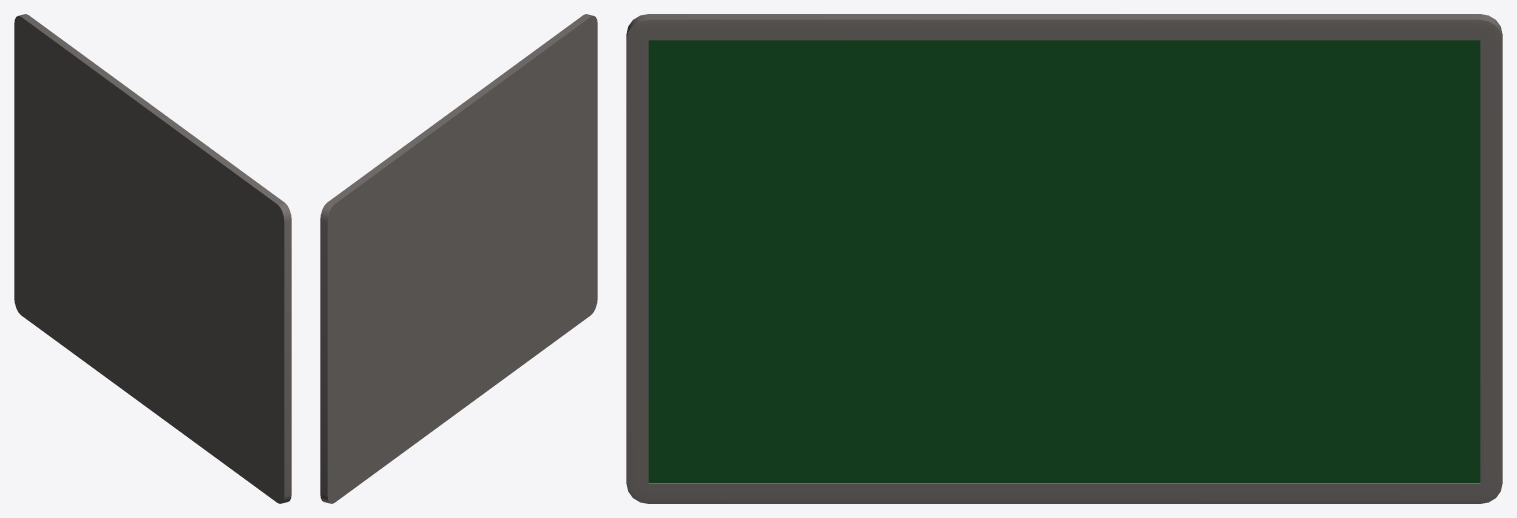
File: board green(gray).fbx
3 views of the same model, side by side, from view 1: azimuth 30°, elevation 25°; view 2: azimuth 150°, elevation 25°; view 3: azimuth 270°, elevation 25° (orthographic). The views are drawn at different scales.
Parts seen in each view (by area): view 1: Cube; view 2: Cube; view 3: Cube.
Part boxes in pixels (x1=…): Cube: x1=14, y1=14, x2=291, y2=503; Cube: x1=320, y1=14, x2=597, y2=503; Cube: x1=626, y1=14, x2=1502, y2=503.
Bounding box in the file's own units: 13.58 × 504 × 826.
